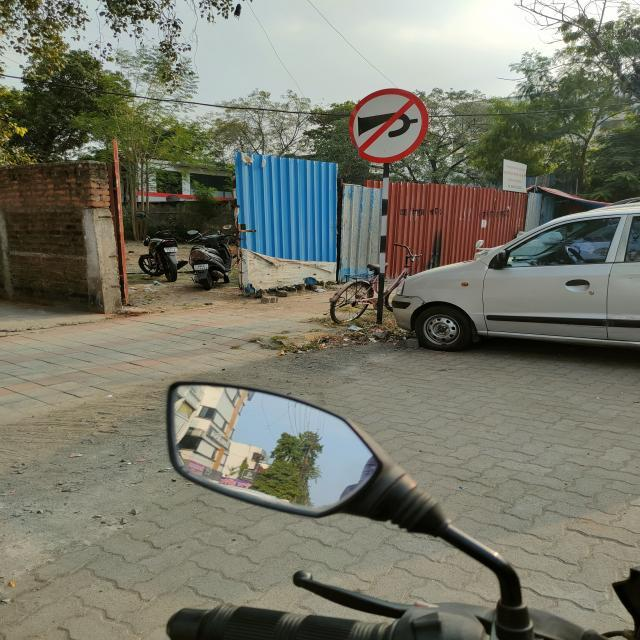horn prohibited: (349, 88, 430, 164)
